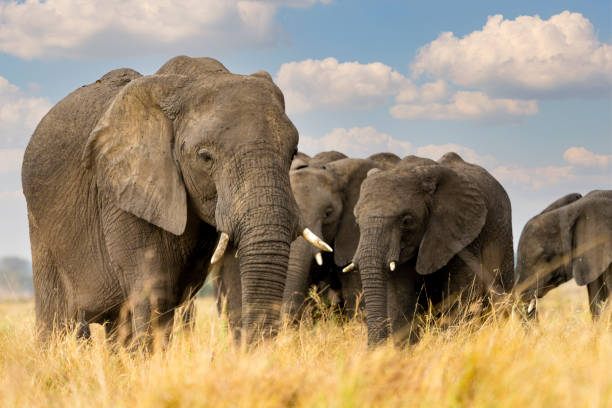africanelephant: (164, 78, 326, 271)
